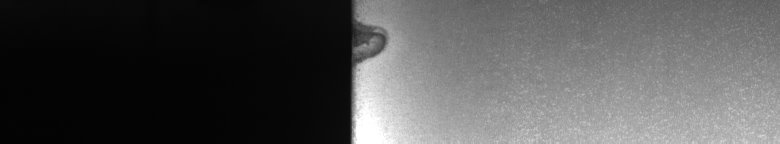hb: (360, 16, 393, 68)
